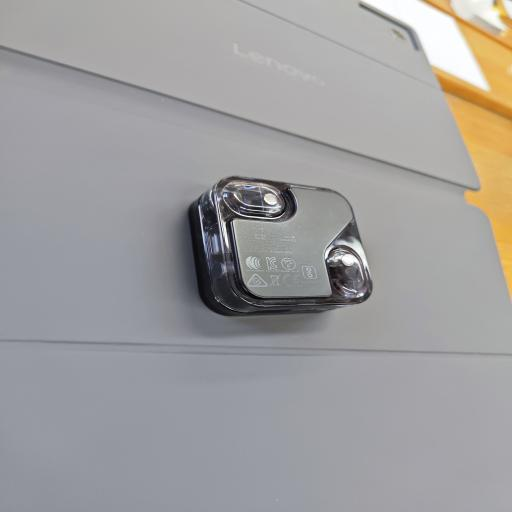CASTI: (184, 171, 377, 325)
